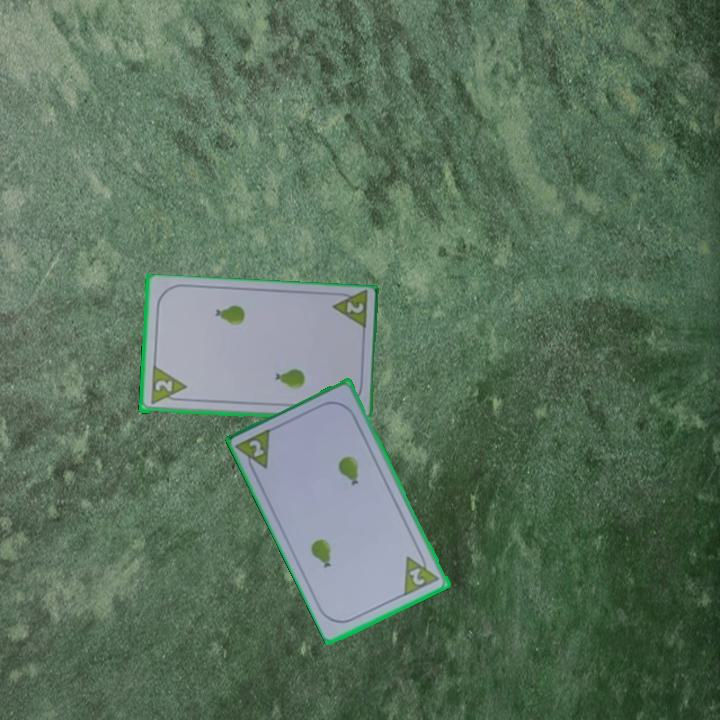2p: (233, 425, 275, 478), (401, 547, 443, 599), (151, 376, 175, 396), (342, 299, 366, 316)
